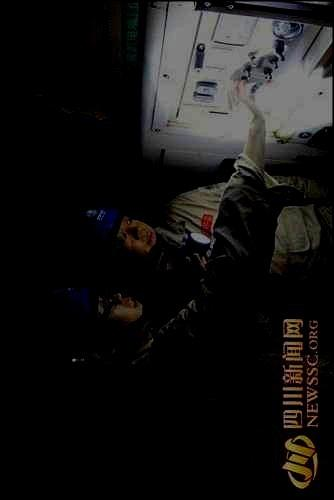helmet: (72, 207, 157, 260)
